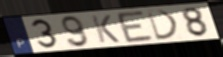3: (31, 17, 60, 51)
8: (181, 6, 211, 38)
9: (59, 15, 91, 48)
D: (145, 8, 181, 42)
E: (115, 9, 156, 45)
K: (89, 14, 122, 44)
